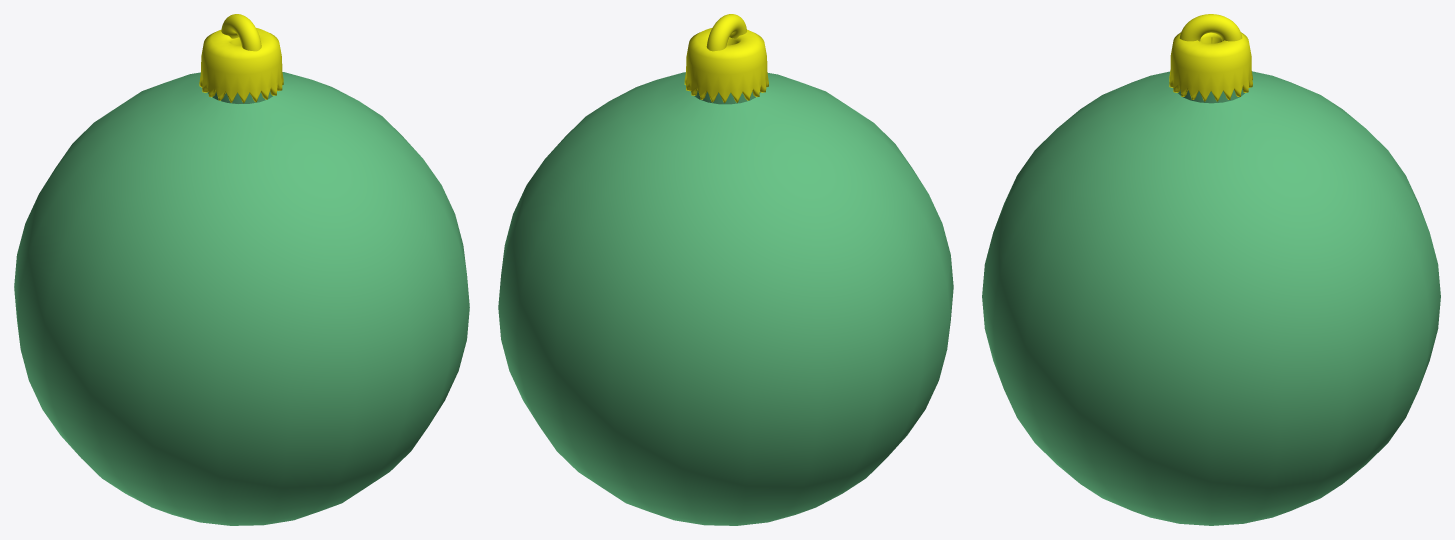
Rendered from FOCO3.obj.
3 renders of one model, left to right at view 1: azimuth 30°, elevation 25°; view 2: azimuth 150°, elevation 25°; view 3: azimuth 270°, elevation 25°, orthographic.
Parts seen in each view (by area): view 1: Foco:Glass_Ball1Red_Bulb, Foco:Red_Bulbtop_crownpPipe2, Foco:Red_BulbpTorus1top_crown; view 2: Foco:Glass_Ball1Red_Bulb, Foco:Red_Bulbtop_crownpPipe2, Foco:Red_BulbpTorus1top_crown; view 3: Foco:Glass_Ball1Red_Bulb, Foco:Red_Bulbtop_crownpPipe2, Foco:Red_BulbpTorus1top_crown.
Boxes of the visible parts, x1,y1,x2,y2 form: Foco:Glass_Ball1Red_Bulb: (14,72,469,525); Foco:Red_Bulbtop_crownpPipe2: (199,28,283,103); Foco:Red_BulbpTorus1top_crown: (221,14,261,51); Foco:Glass_Ball1Red_Bulb: (498,72,953,525); Foco:Red_Bulbtop_crownpPipe2: (684,28,768,103); Foco:Red_BulbpTorus1top_crown: (706,14,746,51); Foco:Glass_Ball1Red_Bulb: (982,71,1440,525); Foco:Red_Bulbtop_crownpPipe2: (1169,32,1252,101); Foco:Red_BulbpTorus1top_crown: (1179,14,1242,41).
Bounding box in the file's own units: 13.51 × 15.9 × 13.51.
2 materials, 2 textured.
